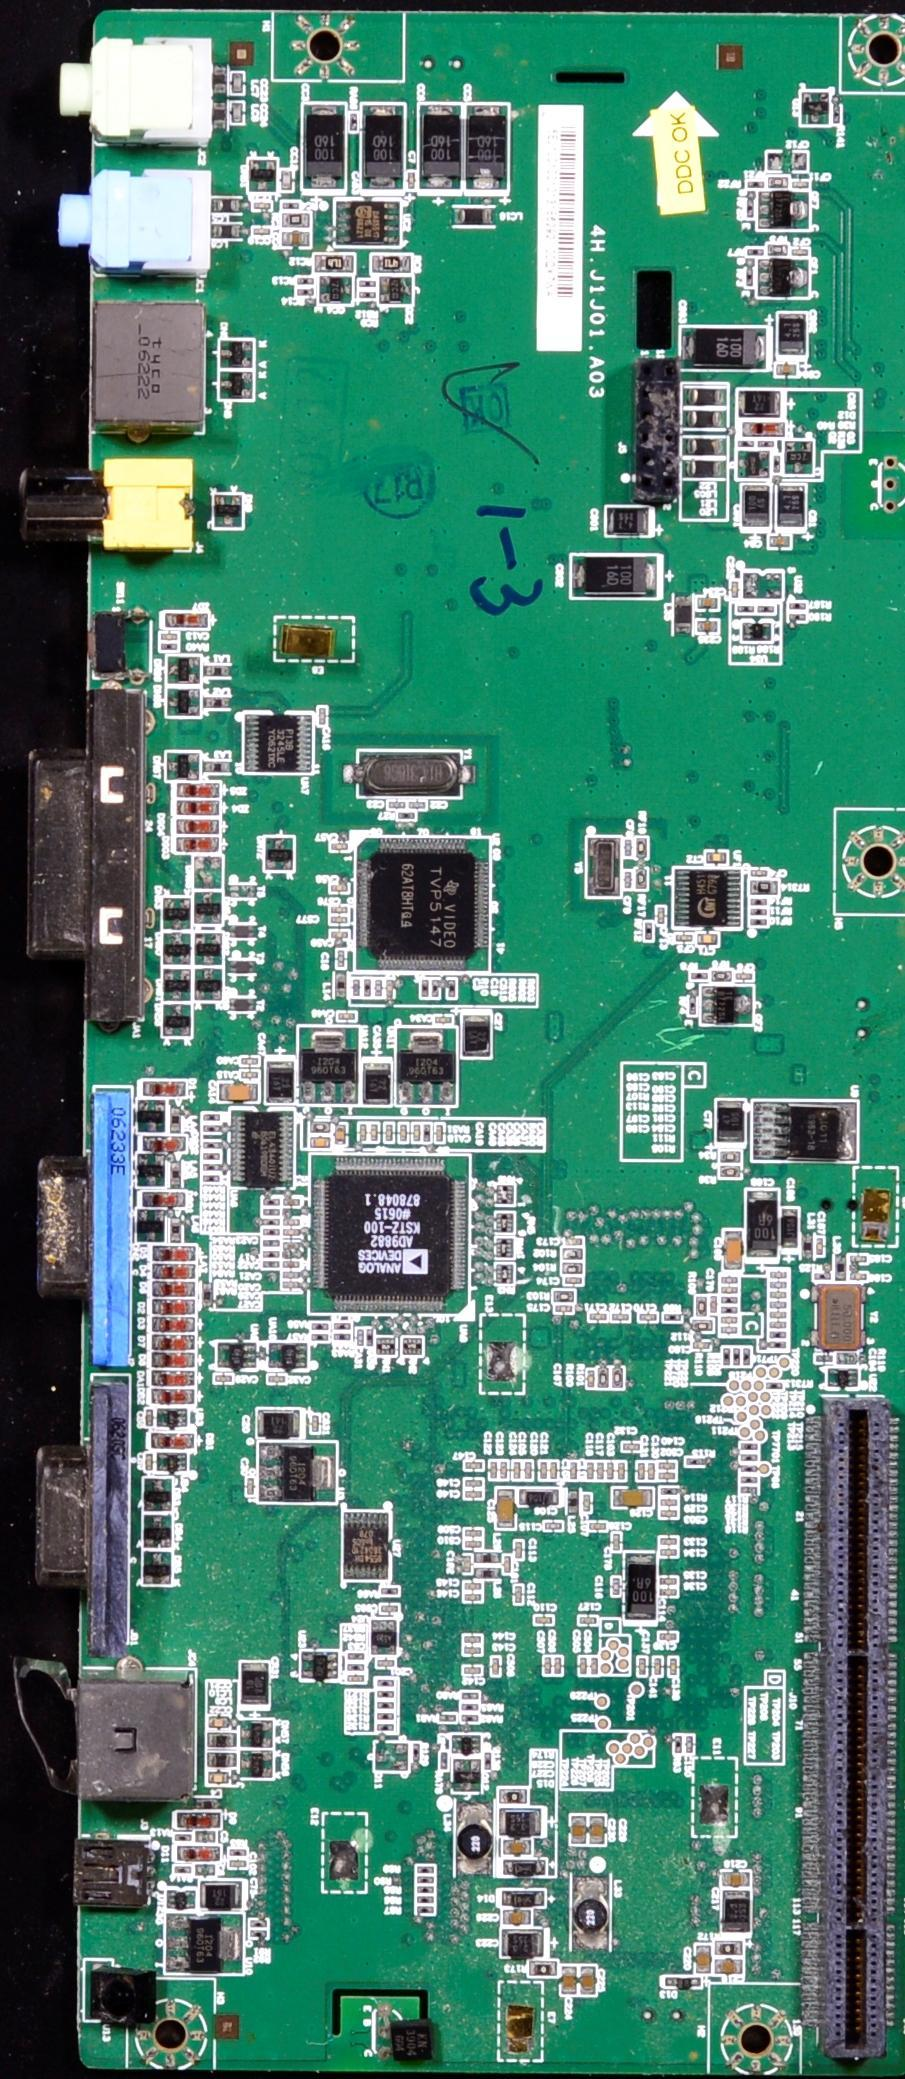Capacitor: (362, 750, 462, 798), (745, 1191, 780, 1260), (398, 1051, 458, 1086), (717, 1100, 749, 1147), (464, 1012, 493, 1058), (223, 1082, 261, 1104), (782, 1209, 802, 1250), (723, 1230, 743, 1270), (504, 1842, 541, 1859), (696, 1942, 712, 1973), (284, 232, 311, 249), (563, 1968, 578, 1998), (207, 1767, 231, 1786), (590, 1816, 606, 1844), (572, 1816, 587, 1844), (504, 1911, 531, 1925), (338, 1012, 368, 1025), (228, 72, 246, 93), (580, 1969, 595, 1995), (716, 1962, 743, 1976), (776, 363, 798, 381), (722, 1873, 753, 1885), (231, 103, 246, 126), (697, 621, 719, 636), (239, 1057, 262, 1070), (771, 536, 792, 550), (209, 1717, 231, 1730), (216, 1374, 239, 1386), (705, 853, 727, 864), (334, 1124, 347, 1144), (368, 1124, 382, 1144), (490, 1656, 501, 1680), (697, 933, 718, 945), (413, 1124, 427, 1143), (697, 598, 719, 609), (590, 1657, 602, 1677), (674, 933, 694, 945), (282, 168, 292, 194), (311, 1138, 333, 1148), (550, 1461, 560, 1482), (513, 1461, 523, 1482), (462, 1667, 484, 1677), (462, 1558, 474, 1576), (319, 705, 329, 729), (435, 1124, 445, 1144), (639, 1313, 659, 1323), (489, 1461, 500, 1481), (465, 1490, 485, 1501), (543, 1657, 554, 1677), (769, 179, 791, 188), (269, 1375, 288, 1386), (500, 1461, 509, 1482), (590, 1522, 608, 1533), (462, 1645, 484, 1655), (657, 907, 668, 925), (252, 228, 276, 236), (849, 1256, 869, 1265), (590, 1315, 610, 1325), (356, 1329, 366, 1348), (816, 1355, 836, 1364), (588, 1370, 598, 1390), (525, 1461, 534, 1481), (541, 1461, 550, 1481), (648, 1461, 657, 1481), (613, 1576, 623, 1596), (579, 1618, 599, 1627), (462, 1636, 482, 1645), (465, 1529, 482, 1539), (661, 1576, 678, 1587), (722, 1276, 737, 1287), (566, 1277, 584, 1286), (660, 1462, 678, 1472), (608, 1462, 617, 1481), (465, 1480, 484, 1489), (546, 1523, 564, 1533), (515, 1541, 525, 1559), (661, 1549, 680, 1558), (515, 1586, 525, 1604), (669, 1657, 678, 1676), (555, 1657, 564, 1676), (792, 249, 811, 259), (624, 841, 633, 859), (624, 871, 633, 890), (399, 1127, 409, 1143), (284, 1200, 299, 1211), (621, 1444, 643, 1452), (284, 1282, 301, 1291), (722, 1317, 739, 1326), (694, 1342, 712, 1351), (612, 1535, 621, 1553), (851, 1273, 871, 1281), (769, 1302, 788, 1310), (588, 1462, 596, 1482), (639, 1462, 647, 1482), (660, 1539, 680, 1547), (660, 1588, 680, 1596), (464, 1595, 484, 1603), (382, 1606, 401, 1614), (388, 1123, 395, 1146), (436, 1018, 454, 1026), (360, 1124, 368, 1143), (566, 1238, 584, 1246), (284, 1262, 302, 1270), (770, 1272, 788, 1279), (770, 1291, 788, 1299), (555, 1306, 574, 1314), (612, 1314, 631, 1322), (465, 1462, 484, 1470), (598, 1462, 606, 1481), (617, 1462, 625, 1481), (584, 1496, 592, 1514), (462, 1584, 481, 1592), (660, 1633, 678, 1641), (580, 1657, 588, 1676), (639, 1657, 647, 1676), (655, 1659, 663, 1677), (348, 1675, 367, 1683), (656, 1473, 677, 1480), (818, 1238, 825, 1256), (466, 1541, 484, 1549), (537, 1618, 554, 1626), (254, 203, 272, 211), (751, 870, 769, 878), (792, 183, 812, 190), (504, 1558, 511, 1574), (571, 1462, 578, 1481), (285, 1229, 299, 1237), (284, 1220, 301, 1226), (771, 1283, 788, 1290), (712, 1297, 718, 1314), (770, 1323, 787, 1330), (733, 581, 739, 598), (162, 634, 179, 640), (285, 1273, 301, 1279), (721, 1287, 737, 1294), (242, 1074, 261, 1079), (771, 1313, 786, 1319), (721, 1329, 738, 1334)
Connector: (803, 1394, 905, 2045), (25, 691, 143, 1025), (33, 1378, 129, 1660), (37, 1091, 130, 1370), (28, 1672, 200, 1801), (66, 40, 217, 156), (61, 168, 213, 280), (16, 463, 195, 552), (91, 304, 207, 436), (72, 1836, 151, 1911)
IC: (313, 1158, 470, 1313), (358, 842, 492, 968), (753, 1100, 860, 1164), (235, 1110, 295, 1187), (168, 1915, 244, 1974), (676, 867, 743, 929), (246, 715, 315, 774), (345, 1513, 391, 1583), (337, 202, 401, 244), (301, 1653, 339, 1683), (219, 1342, 258, 1368), (270, 1344, 307, 1370), (375, 1622, 398, 1657), (166, 1889, 197, 1909), (828, 1368, 859, 1388), (453, 1736, 484, 1755)
Resistor: (633, 870, 651, 892), (531, 1964, 558, 1977), (563, 1249, 587, 1264), (636, 837, 651, 861), (836, 1355, 859, 1368), (721, 1154, 743, 1165), (719, 1167, 742, 1179), (613, 1367, 625, 1390), (599, 1367, 610, 1392), (693, 1321, 713, 1334), (563, 1264, 584, 1276), (769, 247, 791, 257), (201, 1112, 221, 1124), (554, 1291, 574, 1303), (378, 1679, 398, 1691), (697, 1298, 708, 1318), (665, 1314, 684, 1325), (484, 1752, 493, 1773), (311, 1323, 331, 1333), (733, 1348, 742, 1368), (439, 1714, 458, 1724), (417, 1876, 437, 1885), (462, 1702, 480, 1713), (743, 1347, 753, 1366), (378, 1692, 396, 1701), (462, 1714, 481, 1724), (416, 1867, 435, 1876), (790, 613, 808, 622), (723, 1348, 731, 1370), (423, 1123, 431, 1143), (419, 1907, 439, 1915), (788, 605, 808, 613), (204, 1142, 223, 1150), (204, 1154, 223, 1161), (204, 1165, 223, 1173), (204, 1177, 223, 1185), (262, 1252, 281, 1260), (721, 1307, 739, 1315), (334, 1323, 352, 1331), (311, 1334, 330, 1342), (378, 1702, 396, 1710), (378, 1714, 396, 1722), (441, 1753, 449, 1771), (738, 605, 757, 613), (162, 644, 180, 652), (205, 1126, 223, 1134), (348, 1653, 366, 1661), (462, 1694, 480, 1702), (413, 1744, 421, 1761), (417, 1897, 435, 1905), (723, 1297, 739, 1305), (770, 1333, 786, 1340), (266, 1200, 280, 1209), (262, 1211, 281, 1217), (265, 1230, 284, 1237), (335, 1334, 352, 1340), (417, 1887, 435, 1893), (268, 1220, 284, 1226), (262, 1262, 282, 1268), (771, 1343, 787, 1350), (379, 1725, 395, 1732), (261, 1241, 277, 1246), (350, 1667, 366, 1672), (759, 609, 775, 613), (657, 959, 659, 971)
Transistor: (702, 986, 754, 1028), (759, 261, 811, 300), (759, 194, 810, 229), (219, 373, 254, 403), (453, 1761, 484, 1795), (784, 442, 815, 476), (735, 451, 772, 479), (215, 495, 242, 530), (139, 1100, 168, 1134), (139, 1154, 166, 1188), (321, 276, 352, 304), (221, 339, 254, 366), (138, 1211, 166, 1241), (383, 278, 413, 306), (252, 163, 278, 195), (802, 102, 831, 115)
